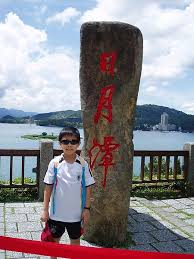people: (45, 128, 91, 257)
